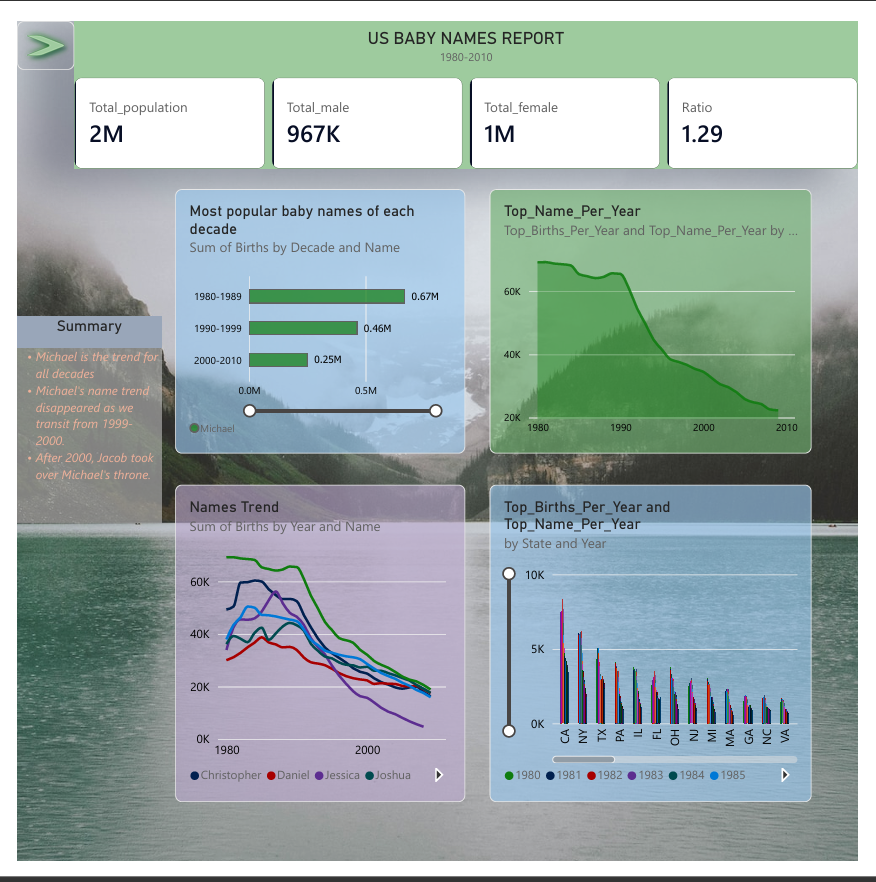

What the dashboard file says about the page in this screenshot:
{"tool":"powerbi","page":{"name":"Home","canvas":[1000,1000],"ordinal":0},"visuals":[{"type":"cardVisual","title":"US BABY NAMES REPORT","fields":{"Data":["names.Total_population","names.total_male","names.total_female","names.Ratio"]},"box":[68,0,932,176],"z":0},{"type":"clusteredBarChart","title":"Most popular baby names of each decade","fields":{"Category":["names.Decade"],"Series":["names.Name"],"Y":["Sum(names.Births)"]},"box":[188.3,200,345,315],"z":1000},{"type":"lineChart","title":" Top_Name_Per_Year","fields":{"Category":["names.Year"],"Y":["names.Top_Births_Per_Year"]},"box":[561.7,200,383.3,315],"z":2000},{"type":"lineChart","title":"Names Trend","fields":{"Category":["names.Year"],"Series":["names.Name"],"Y":["Sum(names.Births)"]},"box":[188.3,551.7,345,378.3],"z":3000},{"type":"lineClusteredColumnComboChart","fields":{"Category":["names.State"],"Series":["names.Year"],"Y":["names.Top_Births_Per_Year"]},"box":[561.7,551.7,383.3,378.3],"z":4000},{"type":"textbox","title":"Summary","box":[0,351.7,171.7,246.7],"z":4001},{"type":"actionButton","title":"<-Back","box":[0,0,68.3,58.3],"z":4002}]}

Visuals, with their boxes in screenshot pixels (x1, y1, x2, y2), scaled from the page's 1000x1000 canvas onto the 876x882 screenshot:
"US BABY NAMES REPORT" cardVisual: (60, 0, 875, 155)
"Most popular baby names of each decade" clusteredBarChart: (165, 176, 467, 454)
" Top_Name_Per_Year" lineChart: (492, 176, 828, 454)
"Names Trend" lineChart: (165, 487, 467, 820)
lineClusteredColumnComboChart - names.State x names.Year: (492, 487, 828, 820)
"Summary" textbox: (0, 310, 150, 528)
"<-Back" actionButton: (0, 0, 60, 51)
